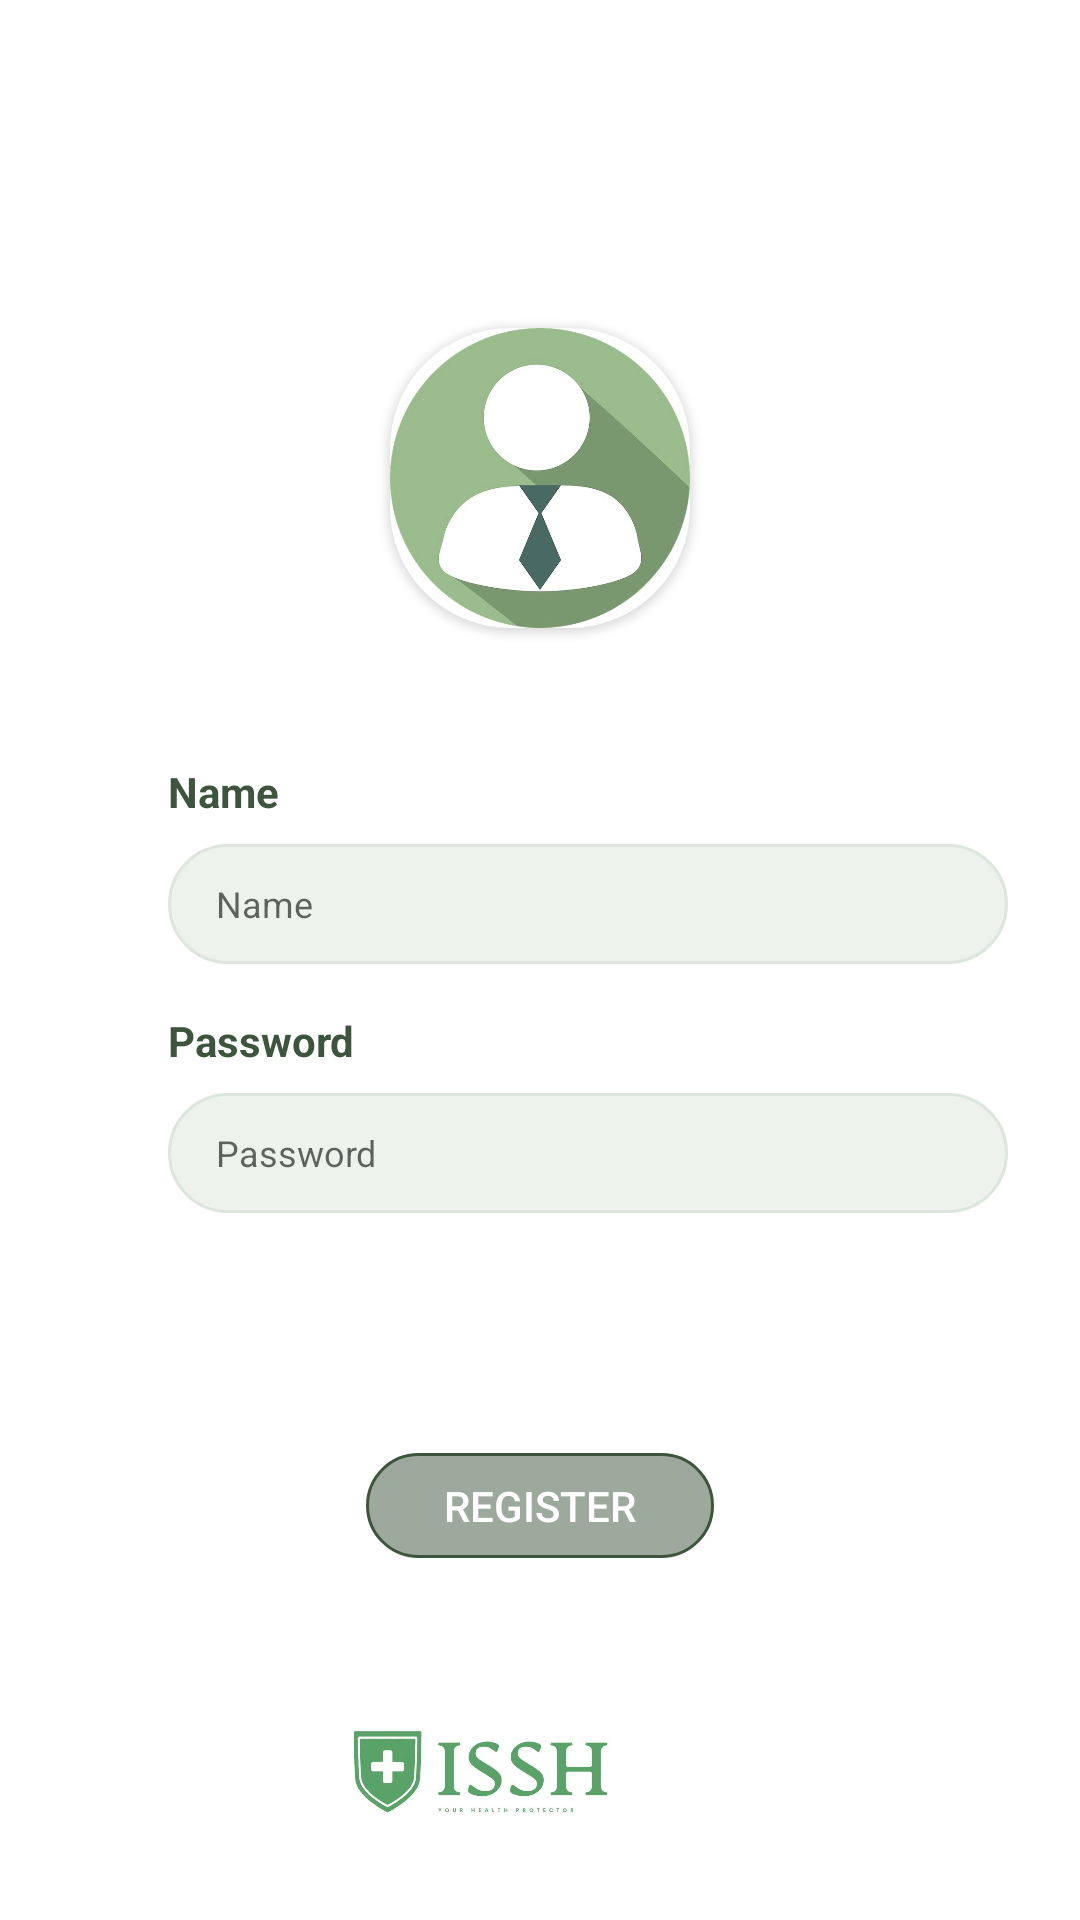

Icon click points for this 1080w x 1920h phone screenshot, format point (x, y):
patiet: point (540, 478)
